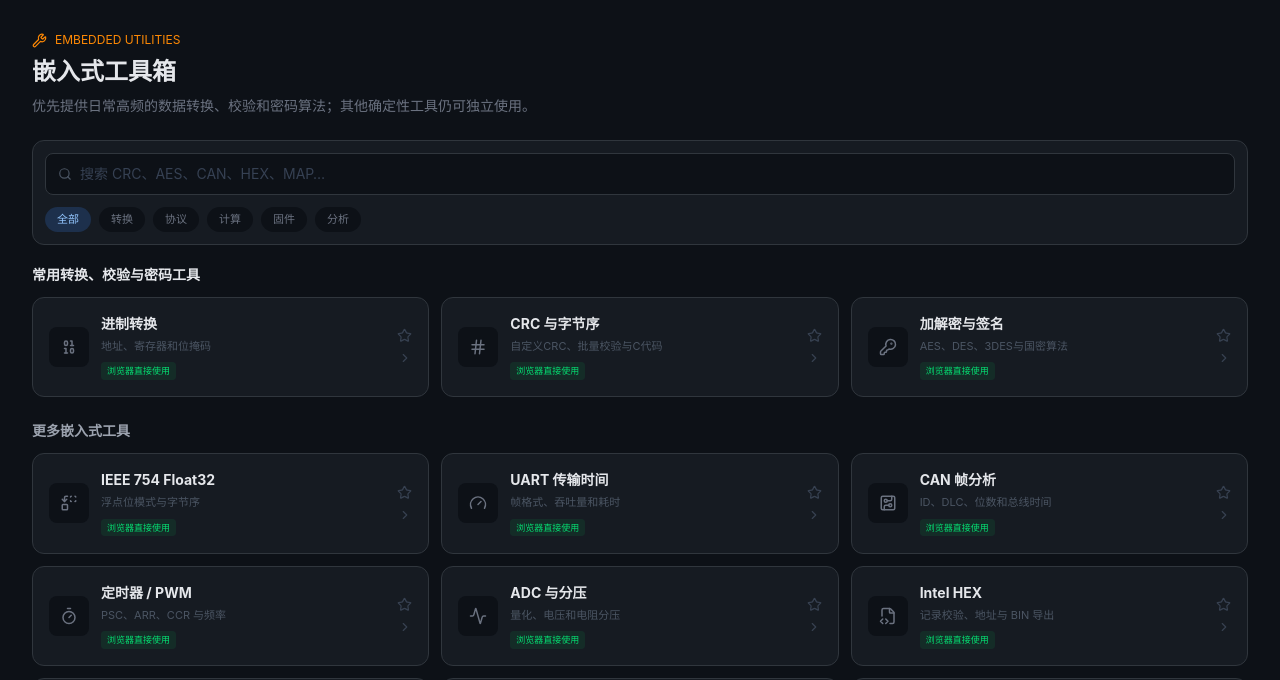
Test case: ToolboxPage independent tool workspace › filters tools and persists favorites locally
Type "MAP" into the field with placeholder "搜索 CRC、AES、CAN、HEX、MAP…".
click(651, 174); type("MAP")  # box [80,154,1222,194]
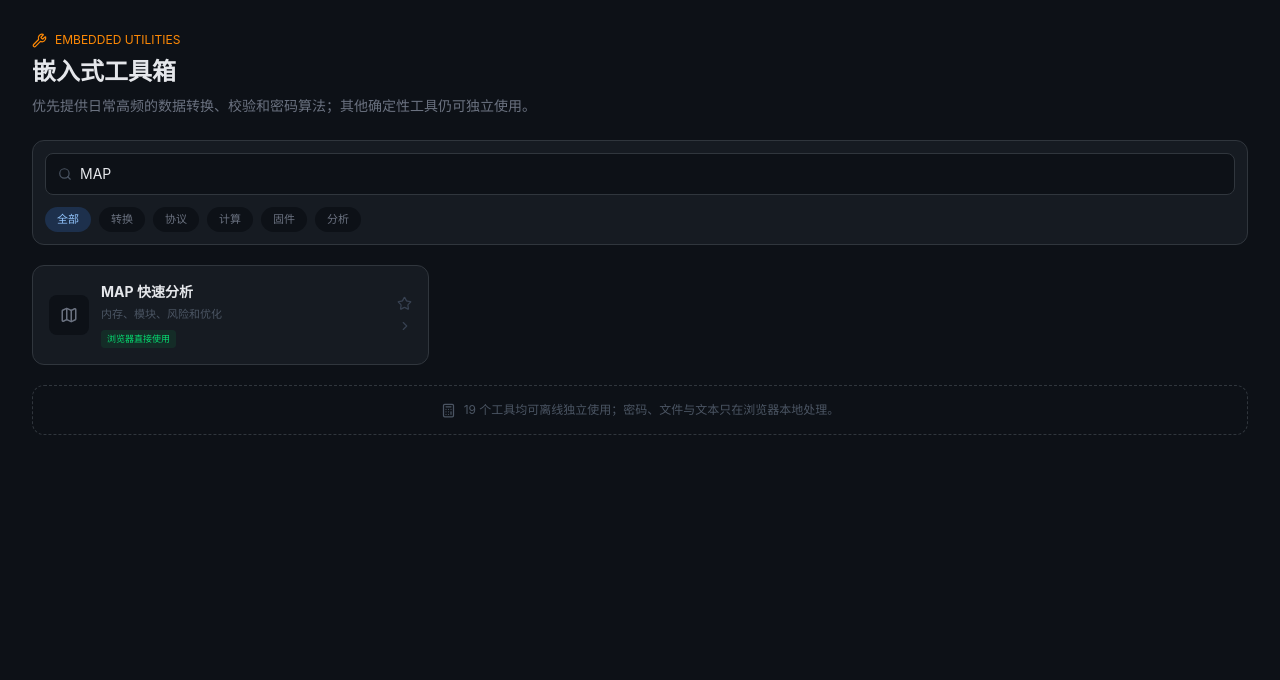
Now the number of buttons named "打开" is 1, box [33,266,428,364]
Clear the field with placeholder "搜索 CRC、AES、CAN、HEX、MAP…" at x=651, y=174, box [80,154,1222,194]
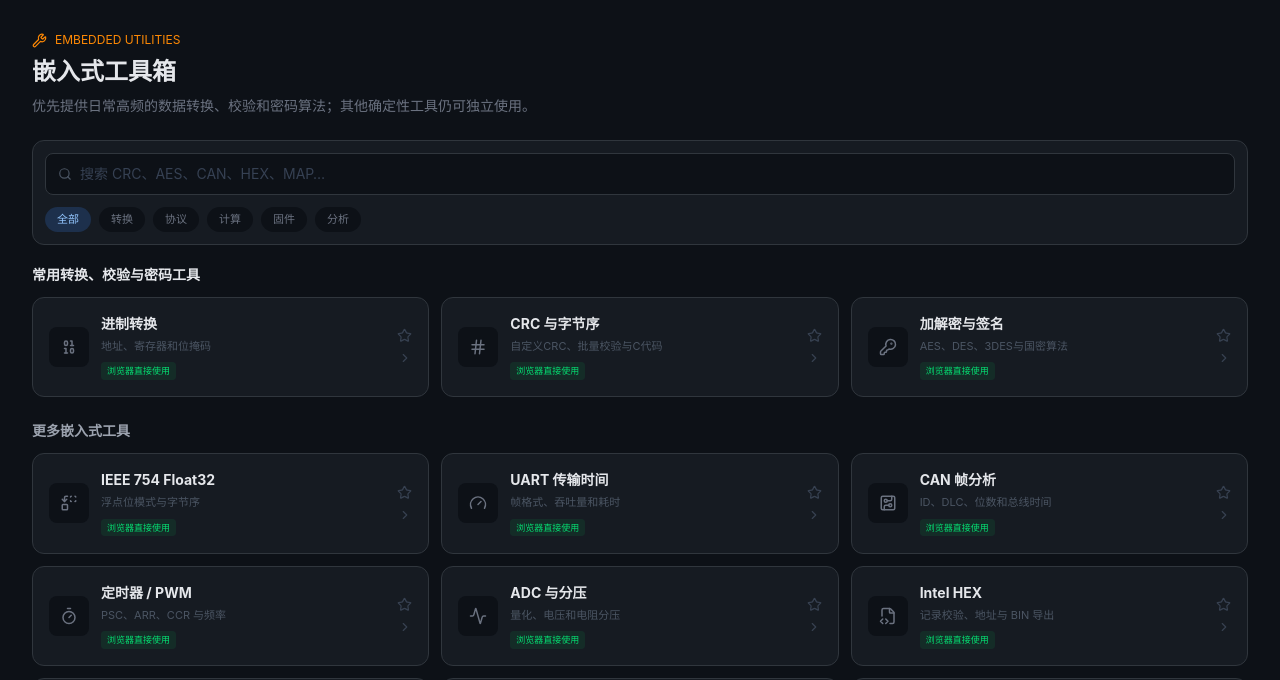
Click the button named "收藏CRC 与字节序".
click(814, 336)  # box [807,328,822,343]
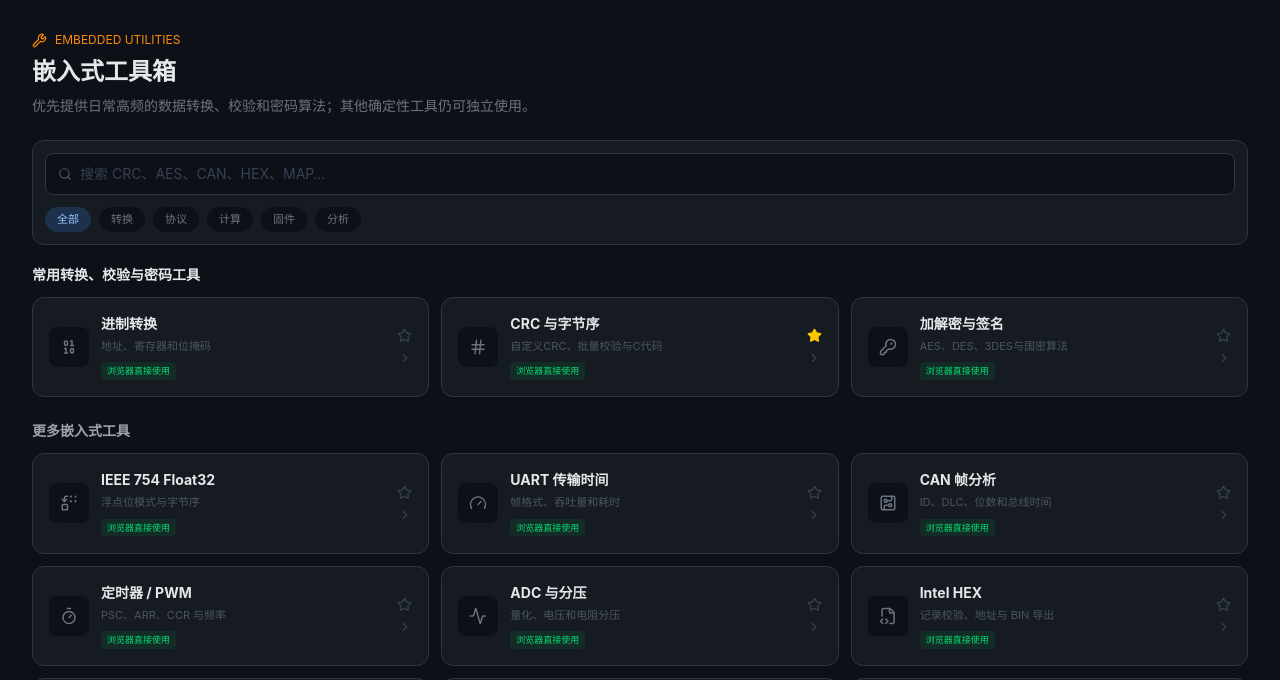
Now the button named "取消收藏CRC 与字节序" is shown, box [807,328,822,343]
